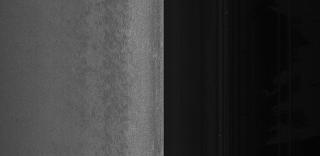silk spot: (103, 10, 135, 136)
